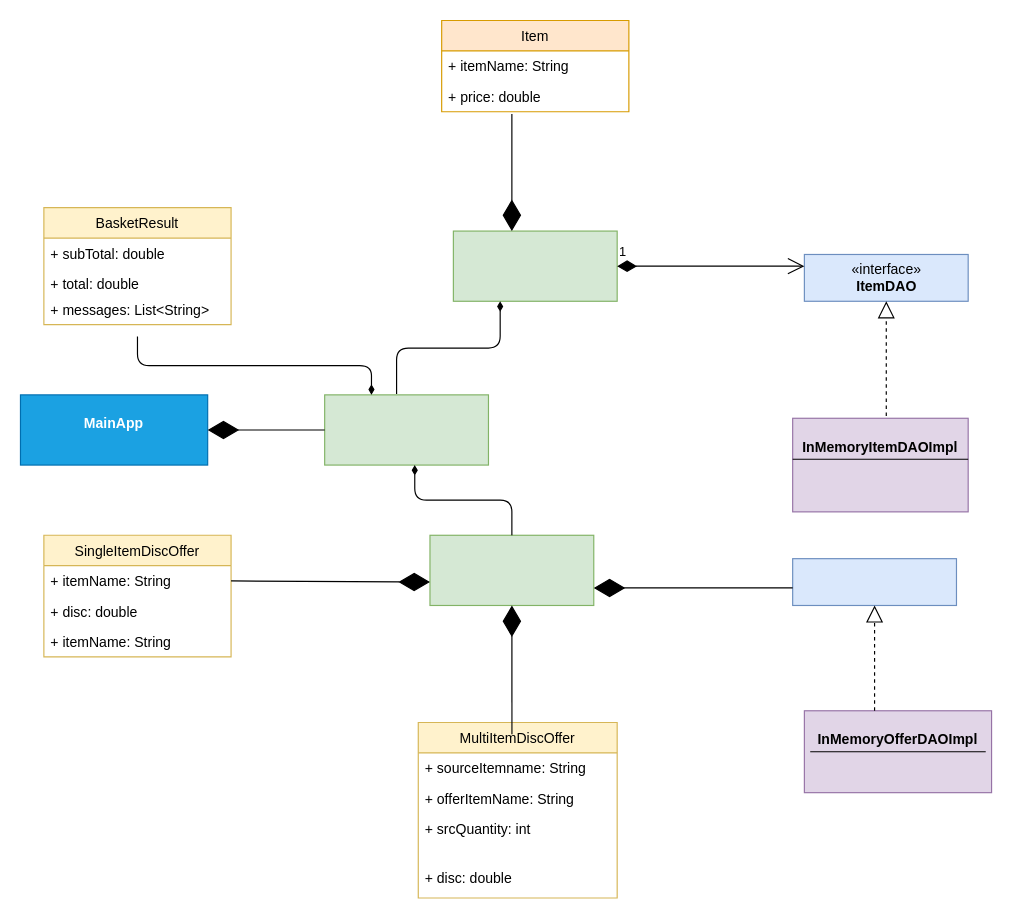
The diagram is 1012 pixels wide and 922 high, and some of its shapes have lost their labels. The shapes that lost their labels are listed below. From the top down, each one's centre as x and y in pixels, then its label:
At point (534, 265): "ItemService".
At point (406, 429): "BasketService".
At point (511, 569): "OfferService".
At point (874, 581): "«interface» OfferDAO".
